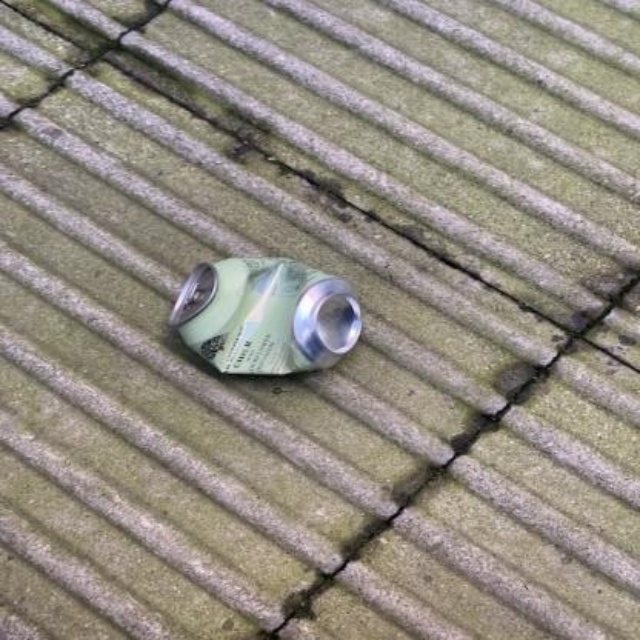trash: (169, 258, 360, 374)
